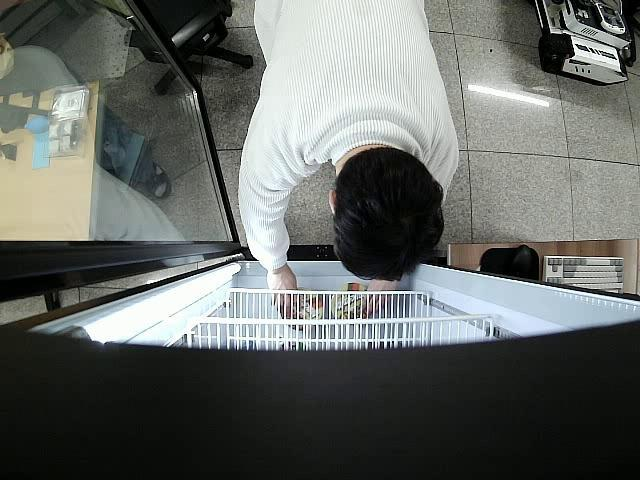03_chapagetti_L: (331, 284, 370, 322), (286, 288, 322, 319)
